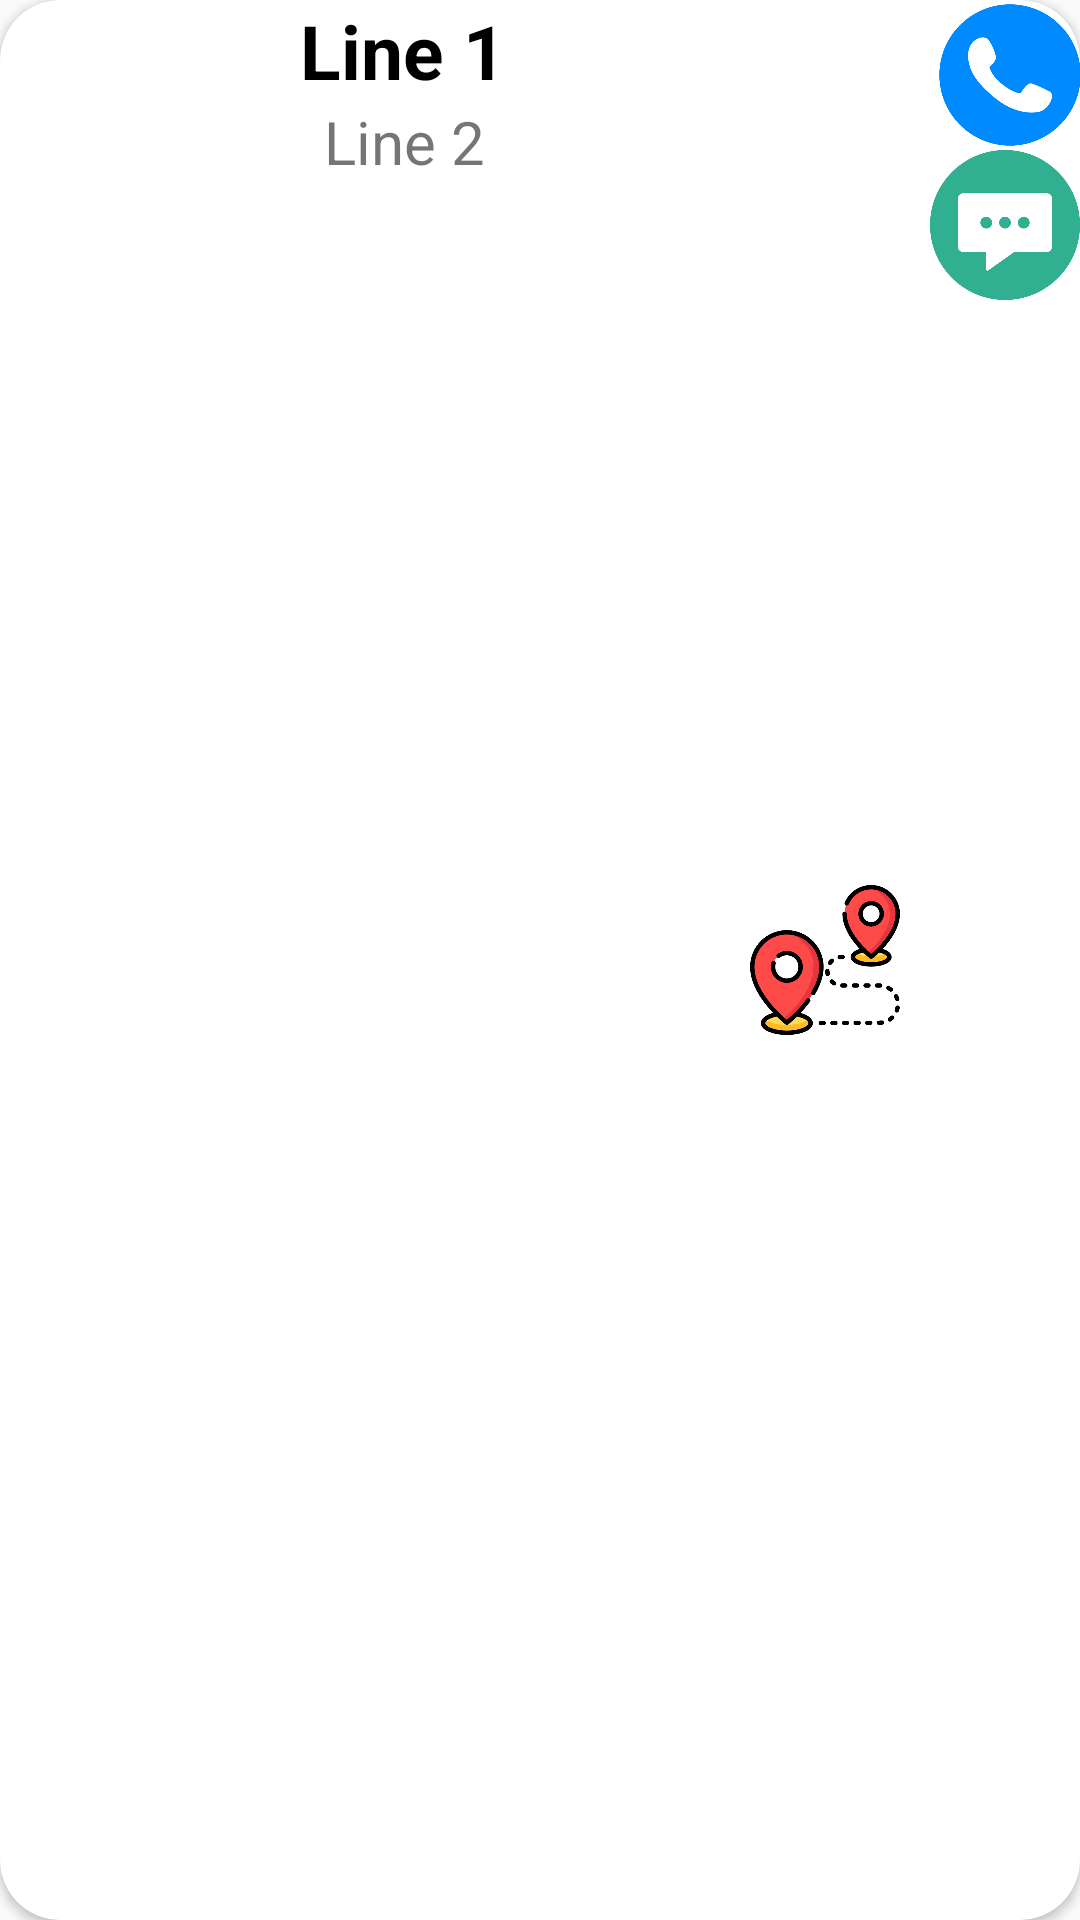

Named icons in this screenshot (1080×1920) and their centers, point (x, y):
callicon: point (1009, 73)
destination: point (825, 960)
iconchatvert: point (1005, 225)
